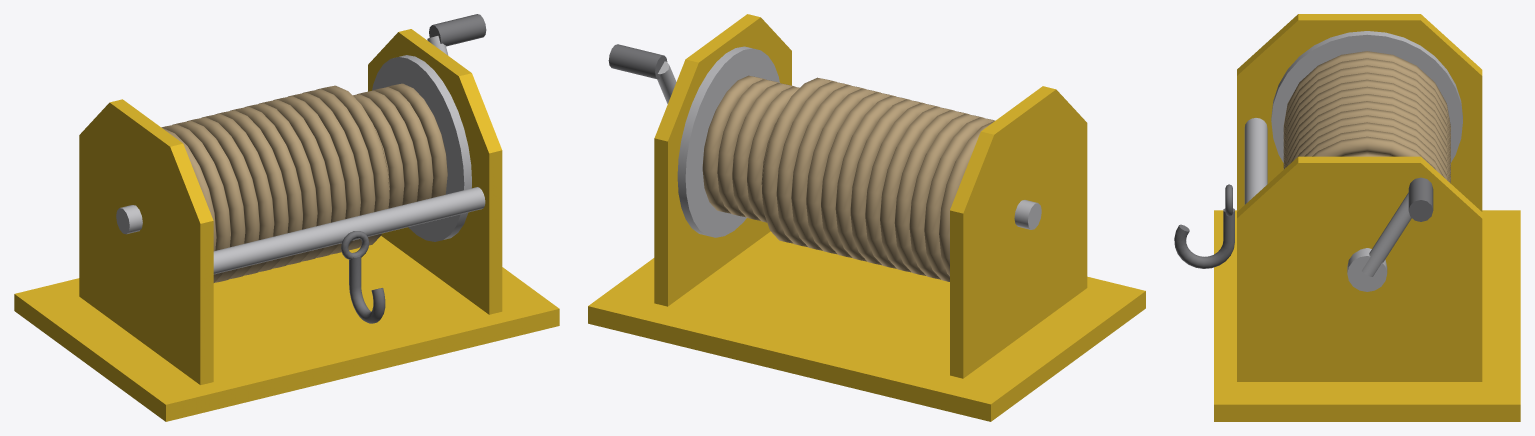
Rendered from winch_rope.glb.
3 renders of one model, left to right at view 1: azimuth 30°, elevation 25°; view 2: azimuth 150°, elevation 25°; view 3: azimuth 270°, elevation 25°, orthographic. The views are drawn at different scales.
Visible parts, largest first — view 1: socle, cable_enroule, tambour, crochet, manivelle; view 2: socle, cable_enroule, tambour, manivelle; view 3: socle, cable_enroule, tambour, manivelle, crochet.
Boxes of the visible parts, x1=… form: socle: x1=14, y1=29, x2=559, y2=421; cable_enroule: x1=161, y1=83, x2=447, y2=282; tambour: x1=116, y1=55, x2=471, y2=241; crochet: x1=341, y1=231, x2=385, y2=323; manivelle: x1=427, y1=14, x2=486, y2=55; socle: x1=588, y1=14, x2=1145, y2=421; cable_enroule: x1=702, y1=75, x2=995, y2=281; tambour: x1=677, y1=46, x2=1041, y2=237; manivelle: x1=608, y1=44, x2=676, y2=103; socle: x1=1214, y1=14, x2=1520, y2=421; cable_enroule: x1=1283, y1=51, x2=1450, y2=183; tambour: x1=1271, y1=31, x2=1462, y2=249; manivelle: x1=1347, y1=177, x2=1433, y2=291; crochet: x1=1174, y1=184, x2=1234, y2=268.
Size of what is drawn, in the model's own units: 0.635 by 0.34 by 0.4515.
